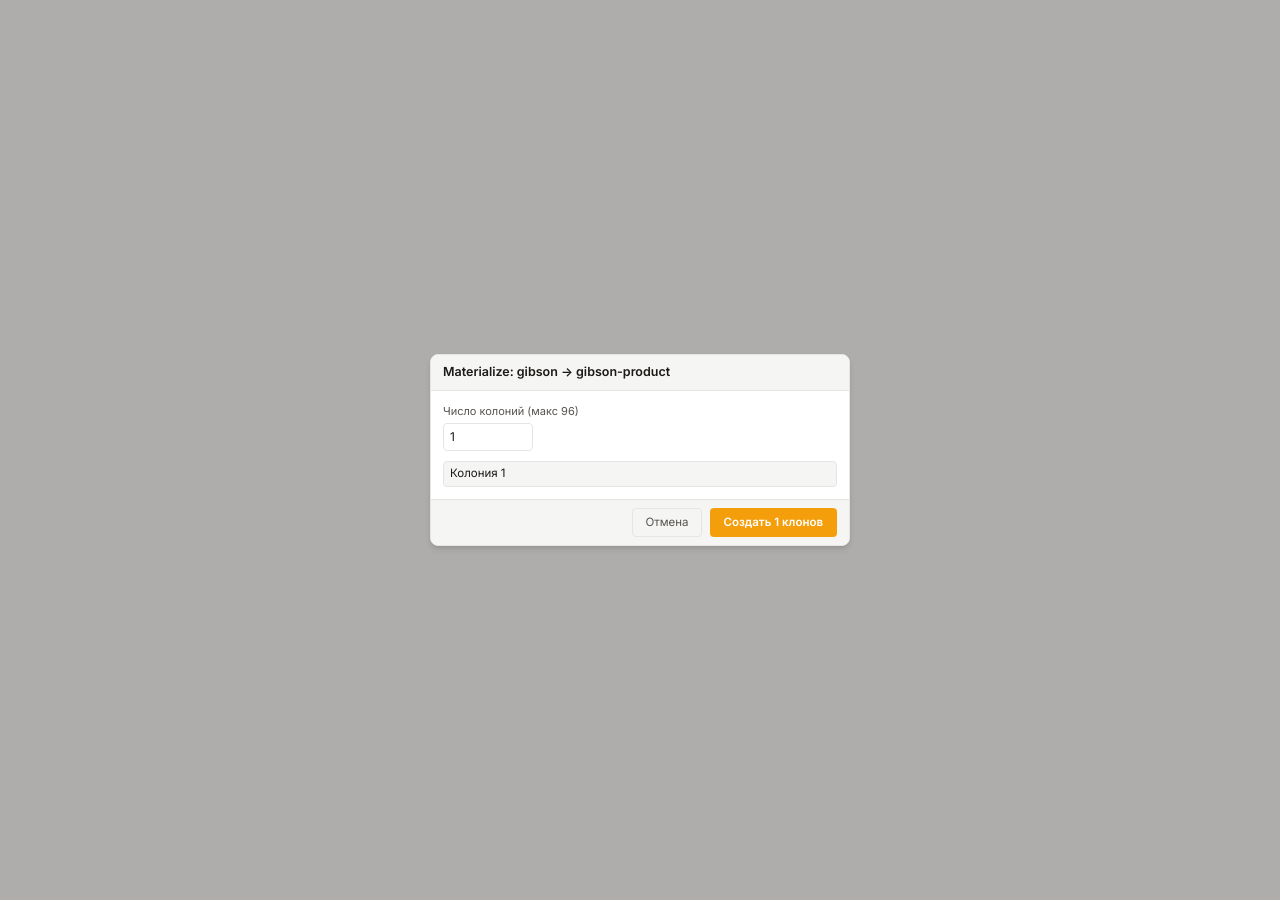
Test: T9 K10 — MaterializeCloneModal › count clamps to 1..96
Replace the text in the number field with test id "materialize-count" with "999": [488, 437] box x1=443 y1=423 x2=533 y2=451
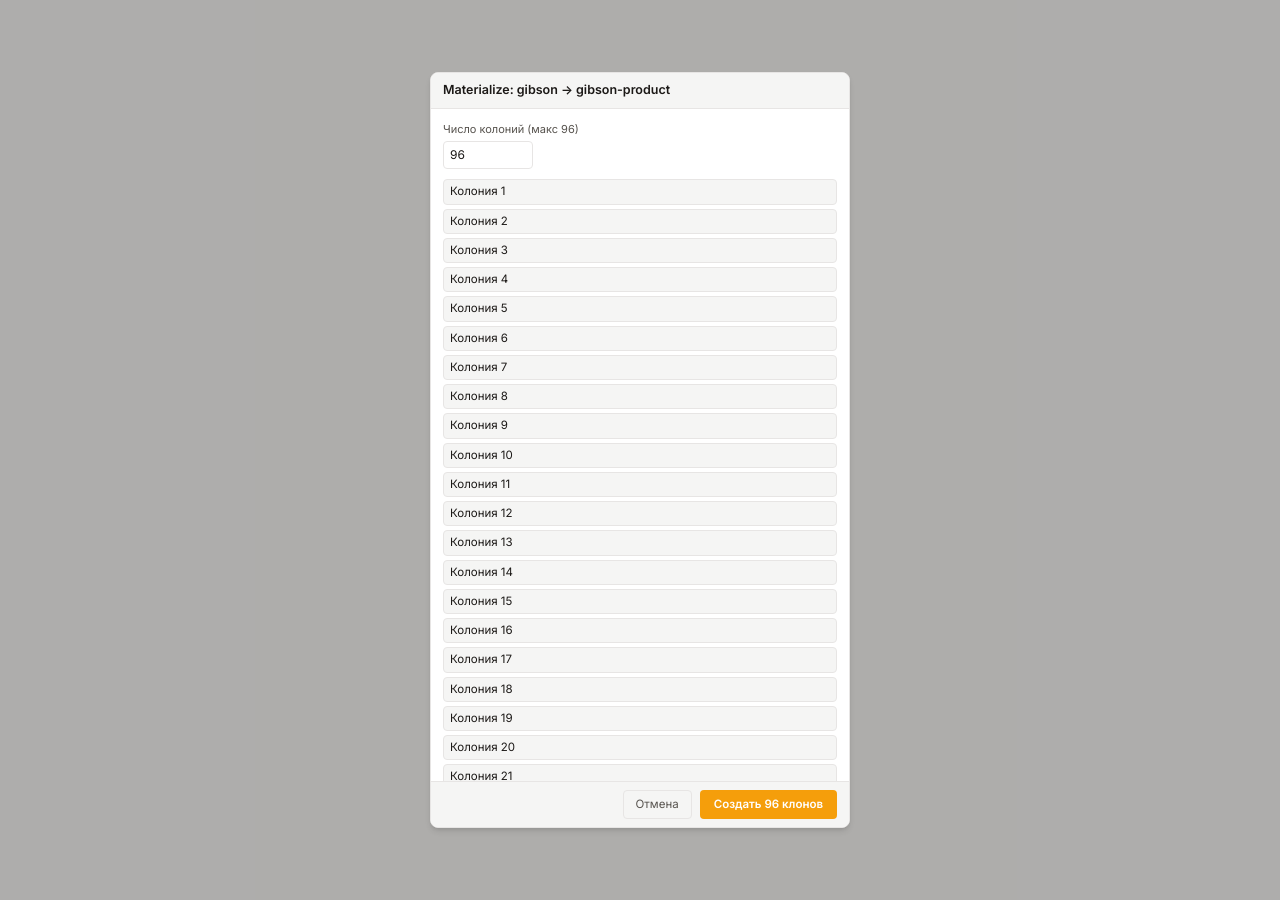
Replace the text in the number field with test id "materialize-count" with "0": [488, 155] box x1=443 y1=141 x2=533 y2=169
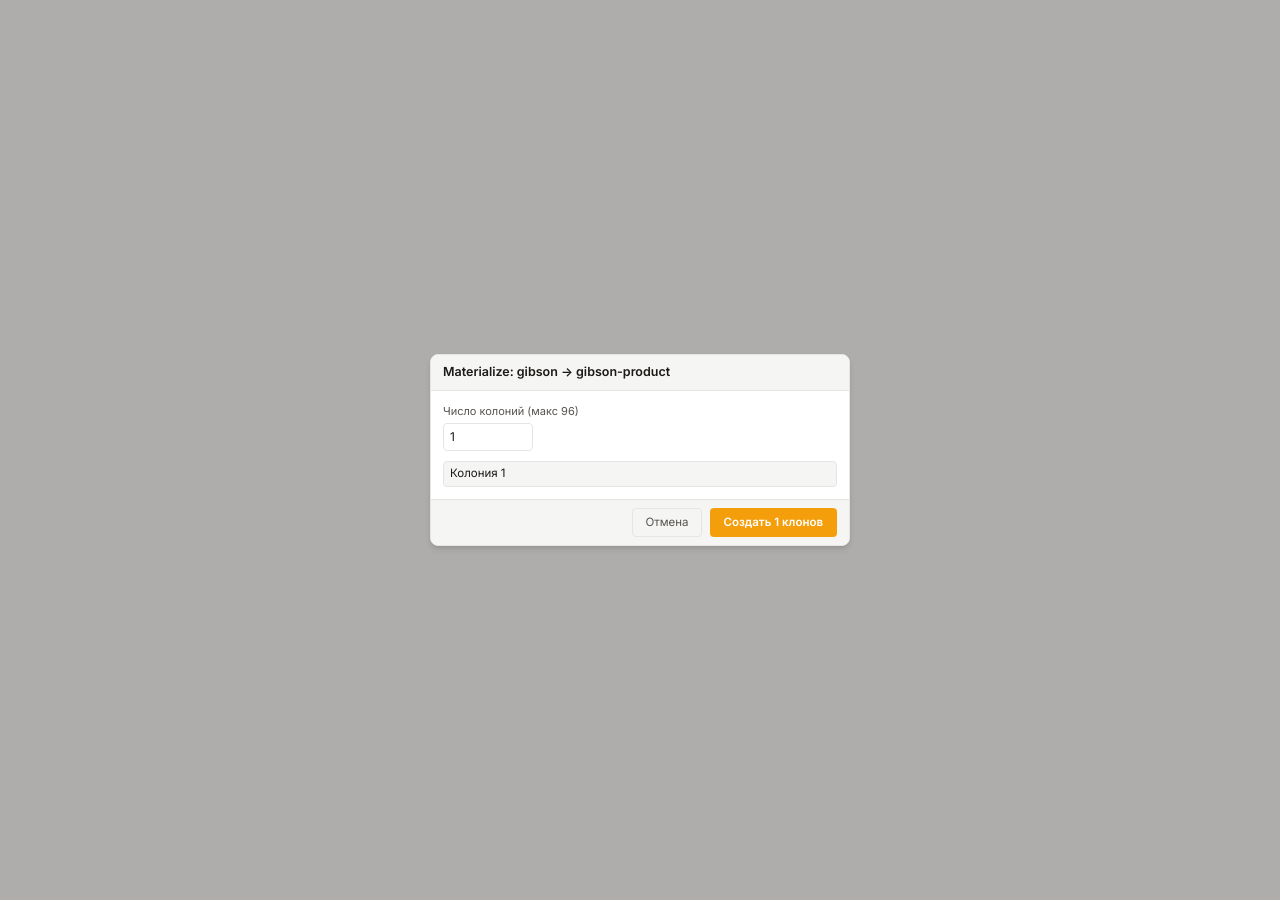
Check: the number of fields with test id "materialize-label" is 1, box x1=443 y1=461 x2=837 y2=487
